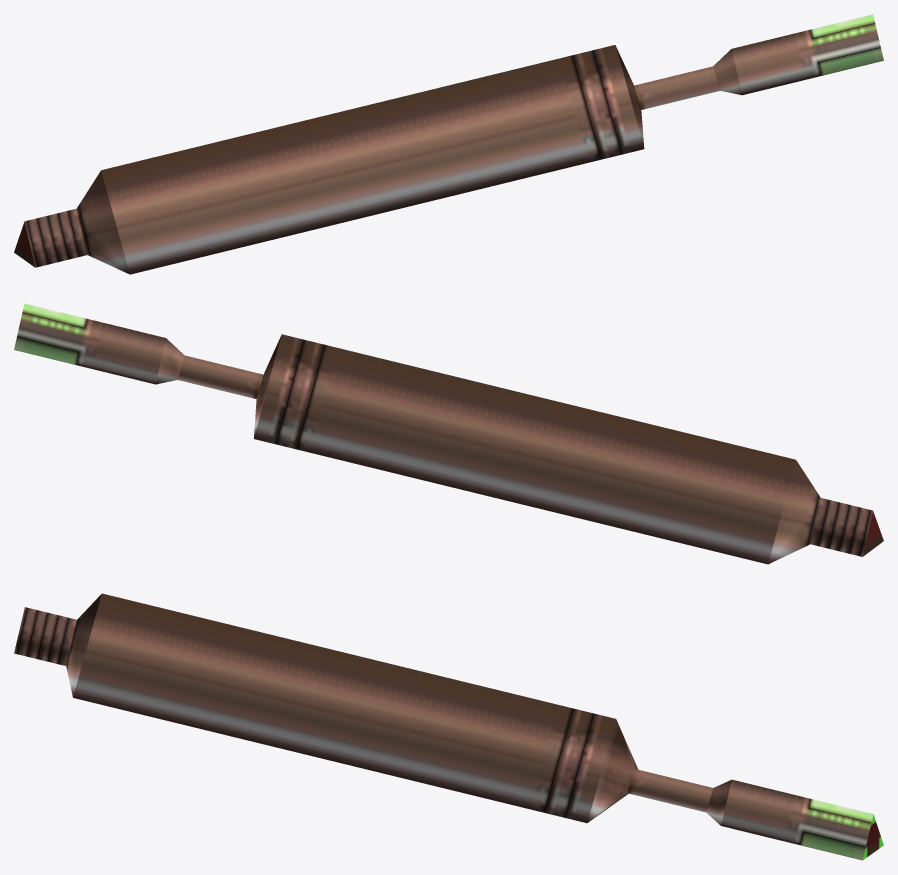
3 views of the same model, one above another, from view 1: azimuth 30°, elevation 25°; view 2: azimuth 150°, elevation 25°; view 3: azimuth 330°, elevation 25° (orthographic).
Parts seen in each view (by area): view 1: BW101; view 2: BW101; view 3: BW101.
Boxes of the visible parts, x1=… form: BW101: x1=14, y1=14, x2=883, y2=274; BW101: x1=14, y1=303, x2=883, y2=564; BW101: x1=14, y1=593, x2=883, y2=860.
Size of the model in its own units: 13.78 by 1.31 by 1.6.
1 material, 1 textured.
